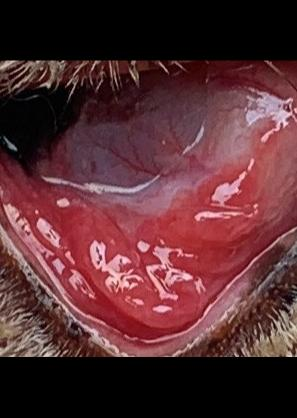eye_membrane: (0, 63, 297, 343)
